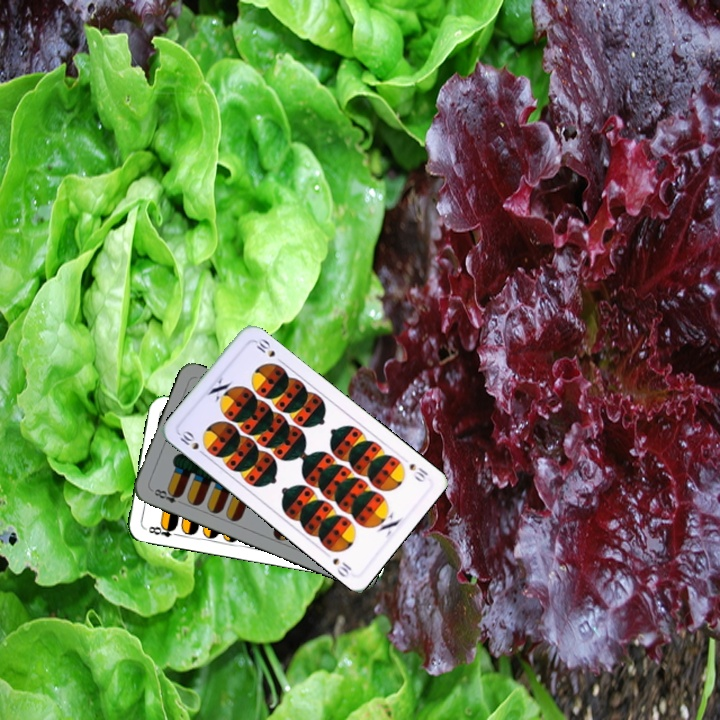E8: (148, 485, 184, 506), (145, 521, 182, 540)
S10: (176, 426, 209, 459), (405, 459, 431, 485)
